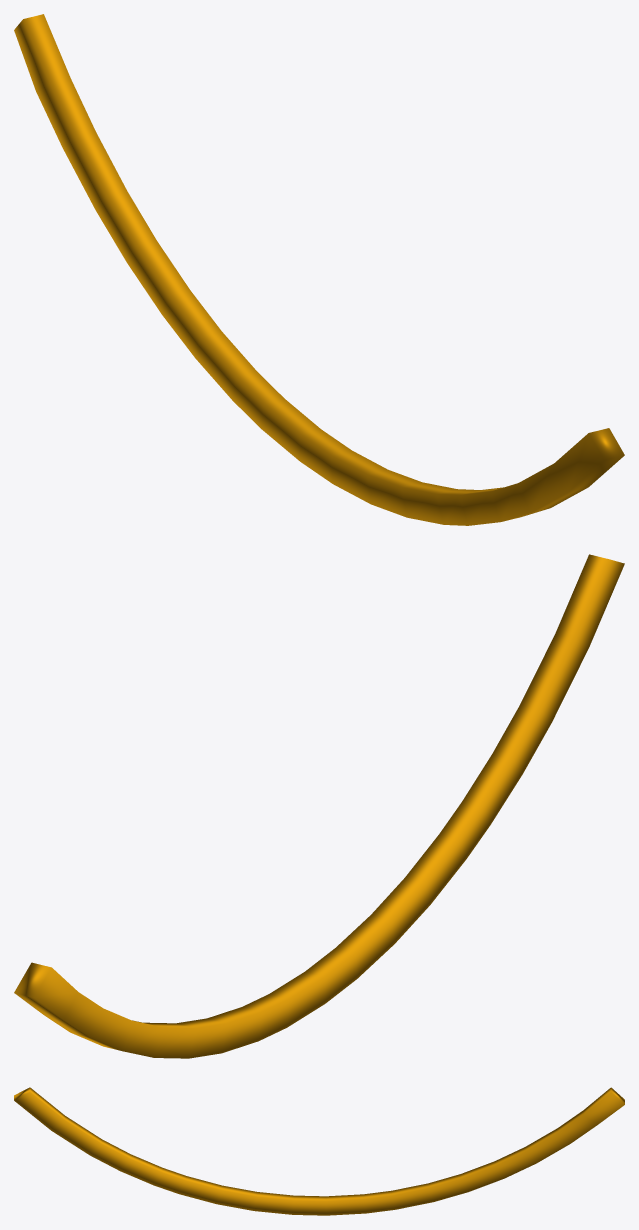
File: Beam_01_Bend_06_M.fbx
3 views of the same model, one above another, from view 1: azimuth 30°, elevation 25°; view 2: azimuth 150°, elevation 25°; view 3: azimuth 270°, elevation 25° (orthographic). The views are drawn at different scales.
Visible parts, largest first — view 1: Beam_01_Bend_06_M; view 2: Beam_01_Bend_06_M; view 3: Beam_01_Bend_06_M.
Boxes of the visible parts, x1,y1,x2,y2 form: Beam_01_Bend_06_M: [14, 14, 624, 525]; Beam_01_Bend_06_M: [14, 554, 624, 1058]; Beam_01_Bend_06_M: [14, 1087, 624, 1215].
Size of the model in its own units: 16.33 by 150 by 673.
